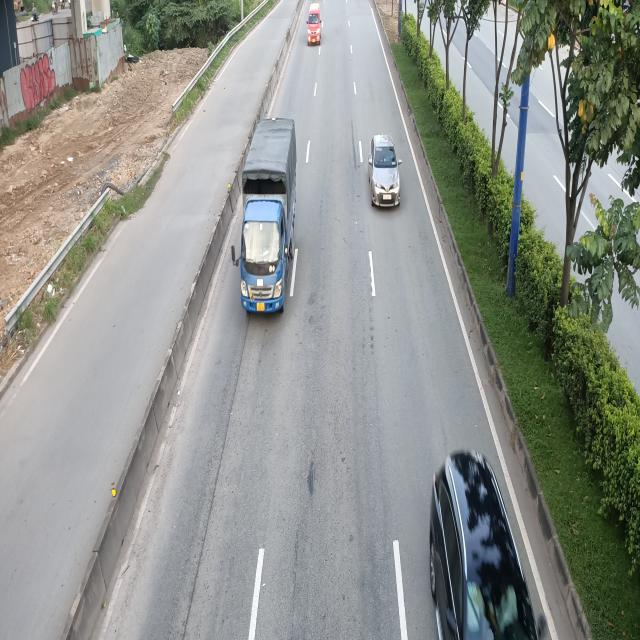car: (432, 449, 555, 639), (368, 132, 402, 206)
truck: (231, 118, 298, 320)
van: (306, 4, 321, 46)
